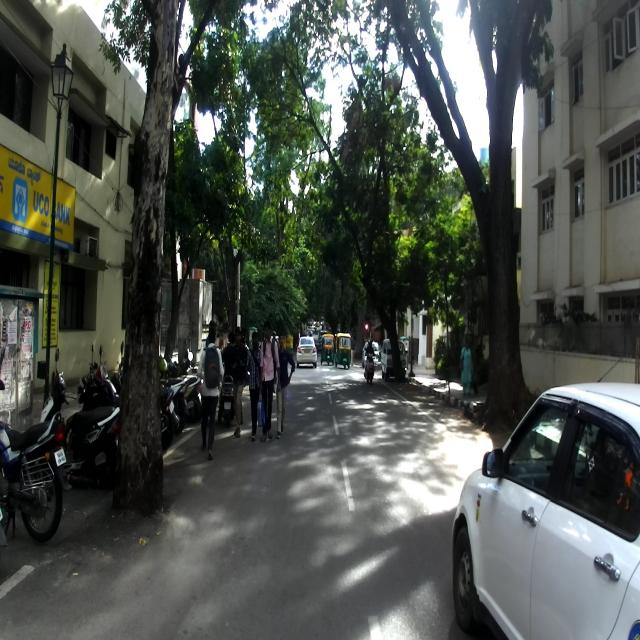Car_Maruti-Suzuki: (450, 382, 640, 640), (296, 333, 317, 367)
motorcycle_Hero: (0, 376, 67, 543)
scooter: (40, 348, 120, 492)
